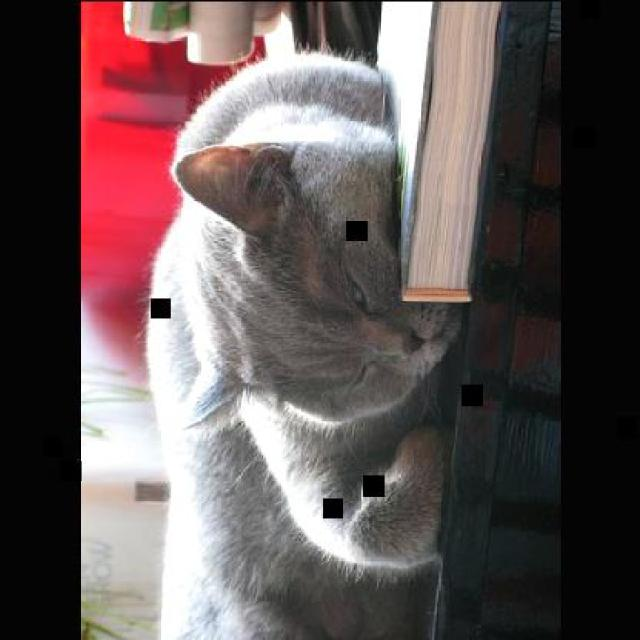unauthorized: (140, 41, 465, 638)
